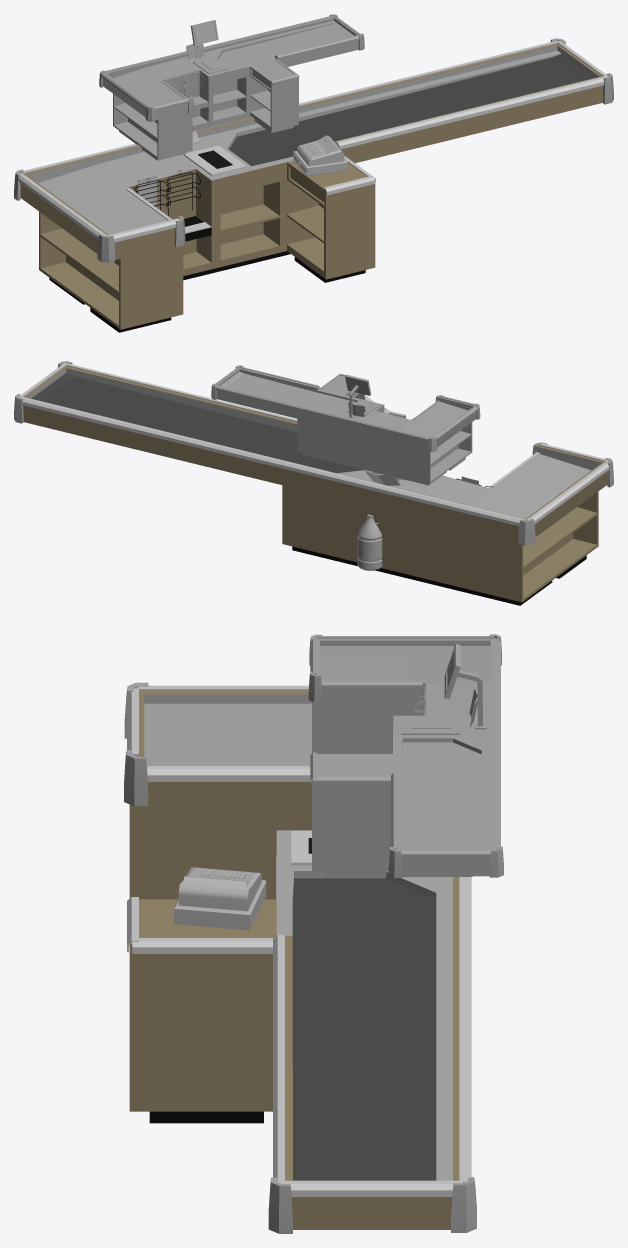
File: Counter 1.fbx
3 renders of one model, top to bottom at view 1: azimuth 30°, elevation 25°; view 2: azimuth 150°, elevation 25°; view 3: azimuth 270°, elevation 25°, orthographic. The views are drawn at different scales.
Visible parts, largest first — view 1: Counter, pasted__polySurface1, corners6, corners1, corners, CashRegister, polySurface5, corners3, CashRegisterBase, pasted__Monitor1, pasted__corners1, corners4 (+3 smaller); view 2: Counter, pasted__polySurface1, corners1, Oil, pasted__corners1, corners, corners6, Corner4, pasted__Monitor1; view 3: Counter, pasted__polySurface1, corners1, corners6, corners2, CashRegister, corners7, corners5, CashRegisterBase, pasted__corners1, Corner, Corner1 (+5 smaller).
Boxes of the visible parts, left/top/right/bottom form: Counter: left=20, top=43, right=603, bottom=332; pasted__polySurface1: left=102, top=17, right=358, bottom=160; corners6: left=336, top=75, right=608, bottom=149; corners1: left=21, top=40, right=558, bottom=173; corners: left=18, top=173, right=107, bottom=239; CashRegister: left=297, top=135, right=344, bottom=166; polySurface5: left=183, top=145, right=246, bottom=175; corners3: left=107, top=218, right=179, bottom=242; CashRegisterBase: left=293, top=151, right=347, bottom=176; pasted__Monitor1: left=190, top=20, right=218, bottom=45; pasted__corners1: left=104, top=15, right=333, bottom=72; corners4: left=323, top=175, right=375, bottom=195; Counter: left=23, top=366, right=607, bottom=605; pasted__polySurface1: left=216, top=368, right=477, bottom=485; corners1: left=19, top=396, right=525, bottom=526; Oil: left=357, top=514, right=382, bottom=570; pasted__corners1: left=215, top=385, right=430, bottom=441; corners: left=526, top=461, right=609, bottom=523; corners6: left=63, top=363, right=297, bottom=421; Corner4: left=518, top=518, right=535, bottom=545; pasted__Monitor1: left=345, top=374, right=371, bottom=395; Counter: left=129, top=690, right=459, bottom=1229; pasted__polySurface1: left=312, top=638, right=496, bottom=877; corners1: left=459, top=877, right=471, bottom=1182; corners6: left=273, top=935, right=284, bottom=1183; corners2: left=285, top=1180, right=462, bottom=1196; CashRegister: left=178, top=867, right=261, bottom=911; corners7: left=147, top=766, right=311, bottom=781; corners5: left=132, top=938, right=273, bottom=953; CashRegisterBase: left=174, top=880, right=266, bottom=930; pasted__corners1: left=494, top=639, right=500, bottom=849; Corner: left=451, top=1177, right=476, bottom=1232; Corner1: left=268, top=1177, right=292, bottom=1233.
Size of the model in its own units: 44.32 by 16.24 by 14.07.
